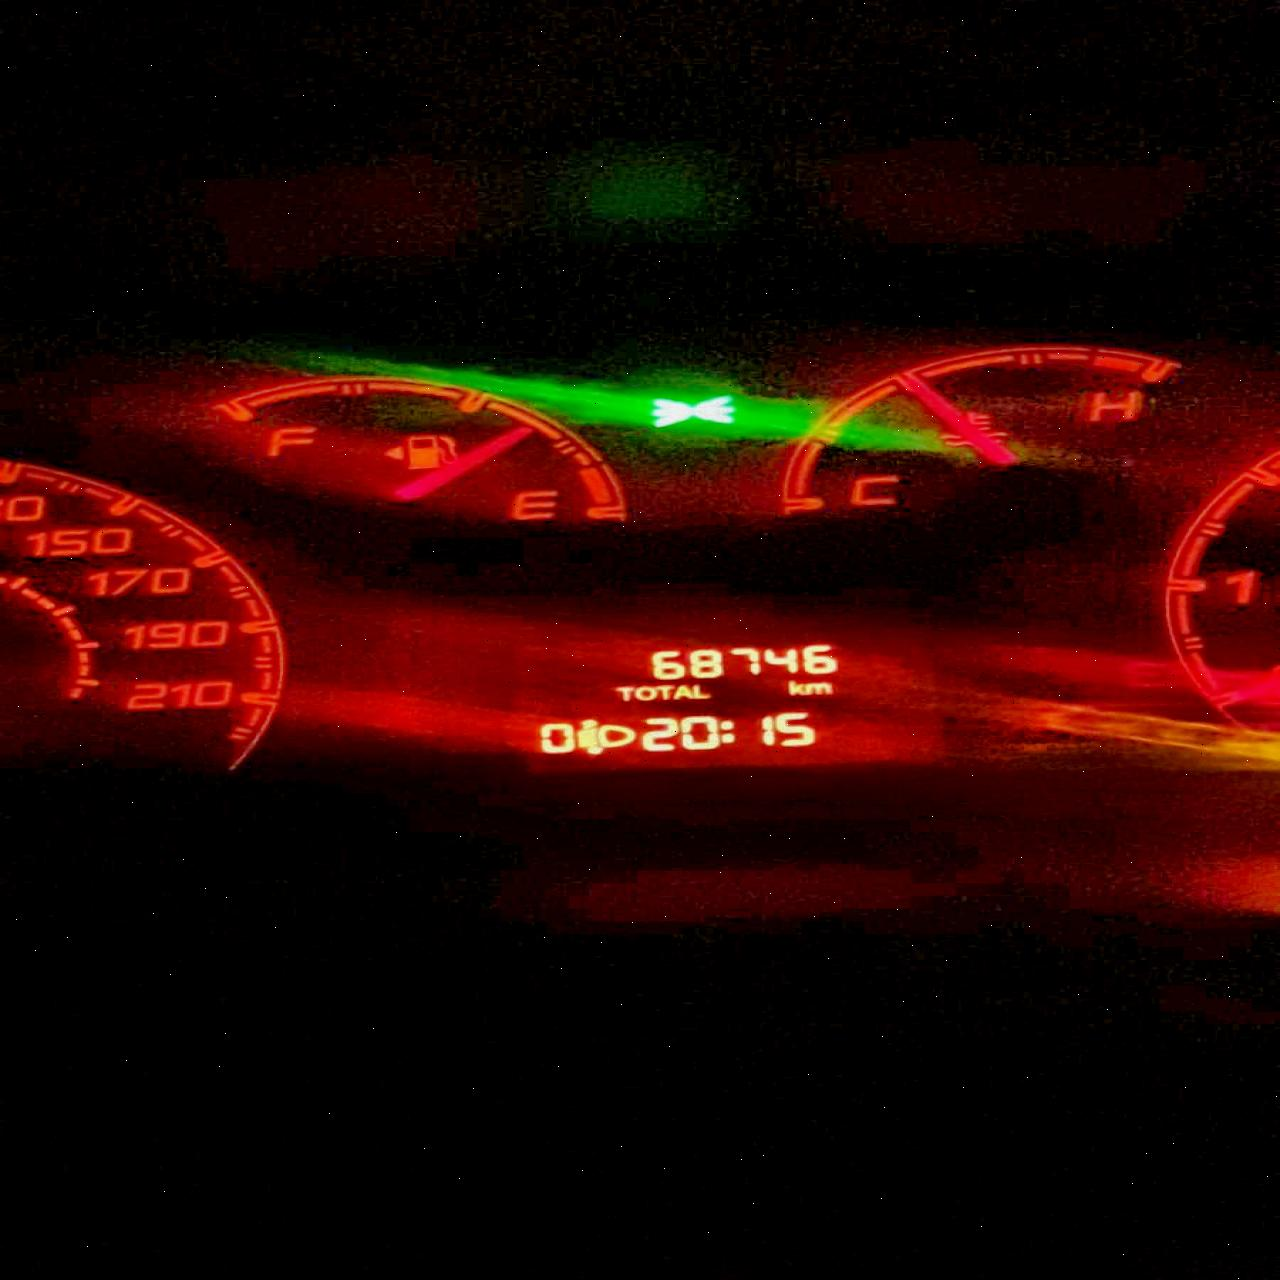0: (679, 715, 716, 750), (538, 722, 573, 754)
1: (758, 714, 777, 747)
2: (640, 715, 679, 753)
4: (764, 646, 799, 673)
5: (774, 712, 816, 747)
6: (648, 649, 686, 679), (801, 644, 836, 674)
7: (730, 647, 762, 675)
8: (687, 647, 724, 679)
X: (719, 717, 738, 747), (804, 680, 832, 696), (787, 679, 810, 696), (633, 685, 656, 701), (655, 685, 673, 702), (673, 683, 692, 700), (614, 685, 632, 701), (692, 683, 708, 699)
odometer: (493, 620, 969, 778)
